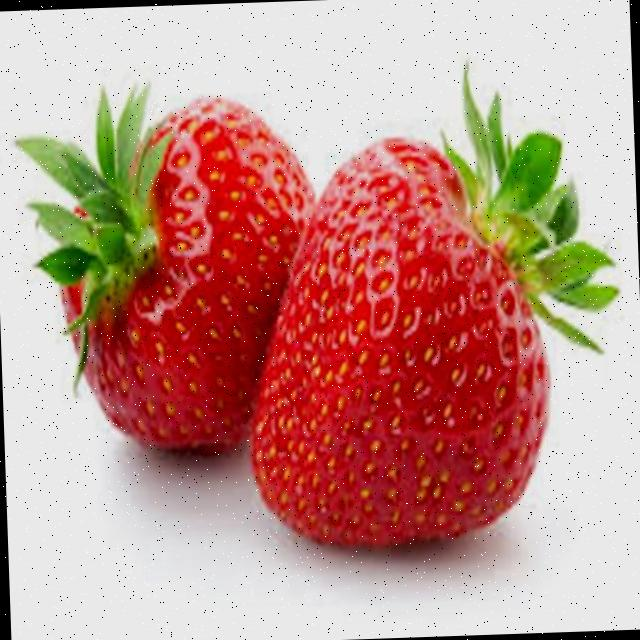strawberry: (252, 71, 615, 545), (17, 89, 312, 452)
